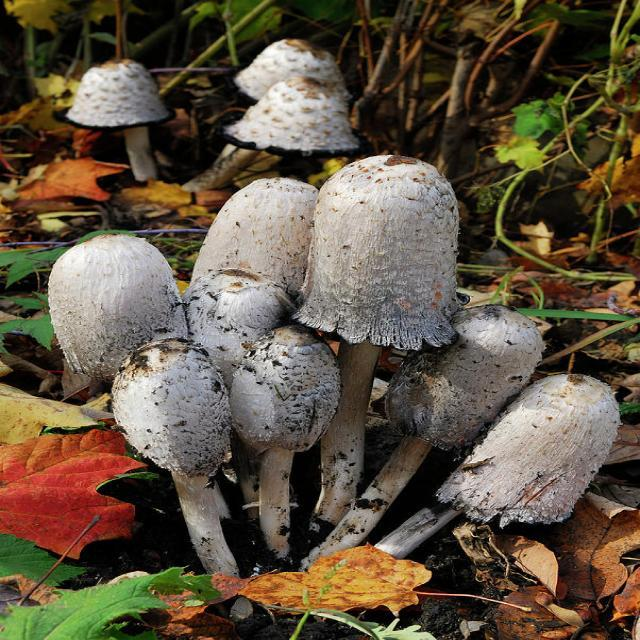Coprinus comatus: (301, 154, 443, 522), (337, 313, 541, 544), (381, 375, 616, 559), (114, 336, 239, 570), (239, 331, 329, 560), (190, 170, 308, 331), (48, 234, 178, 365), (222, 35, 357, 157), (67, 57, 164, 176)
